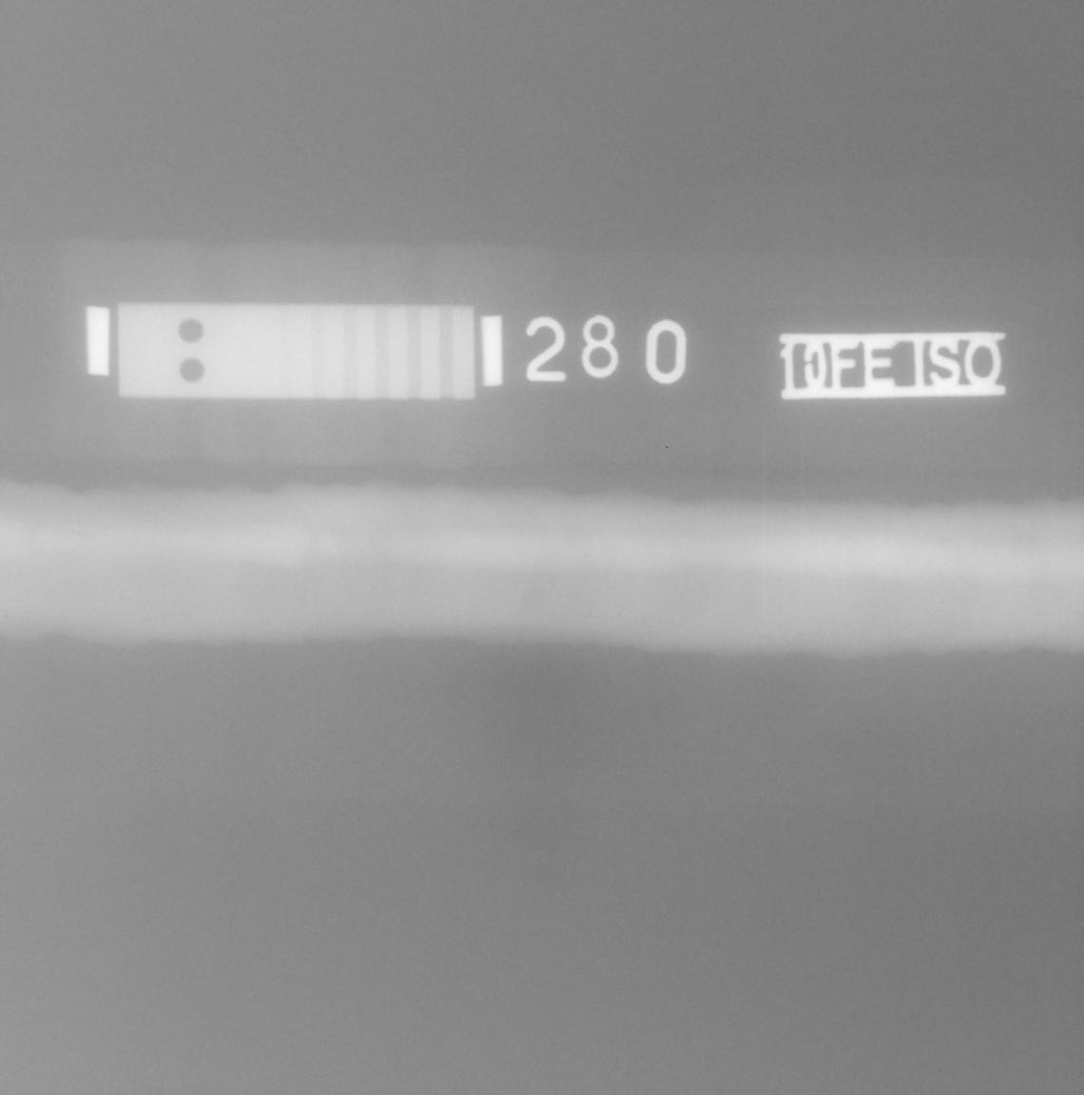Reference Standard 2: (116, 302, 475, 401)
